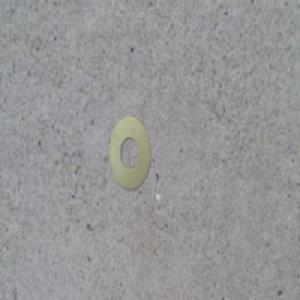Washer: (107, 114, 152, 189)
